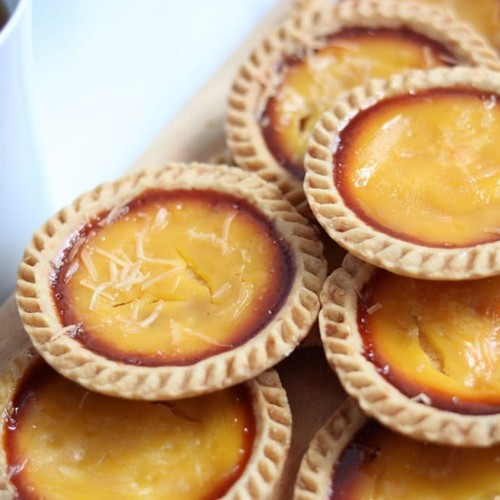pie susu: (18, 162, 323, 386), (297, 68, 500, 290)
